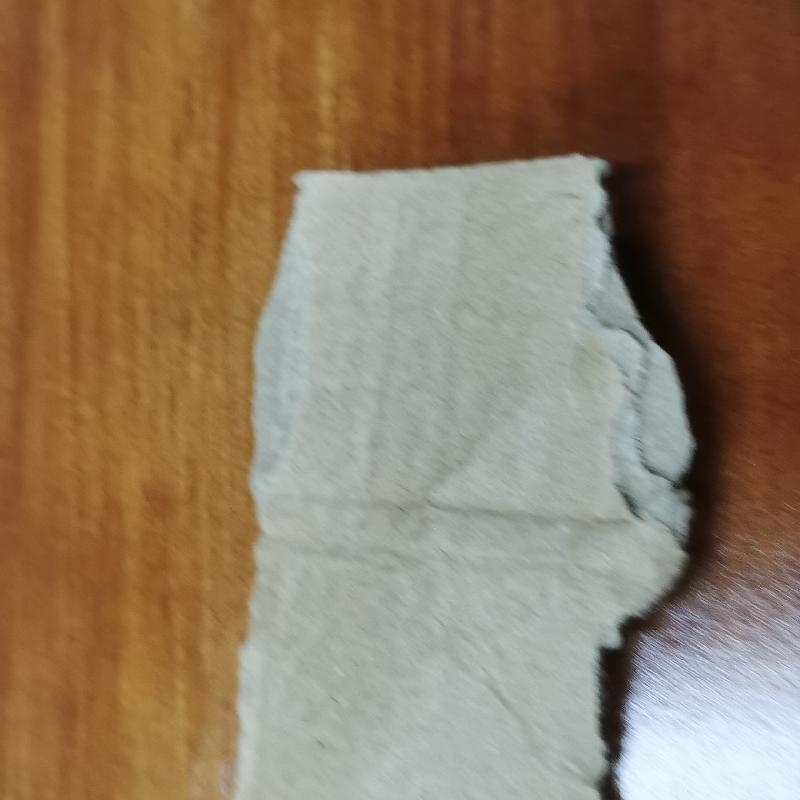boxes: (219, 154, 705, 799)
